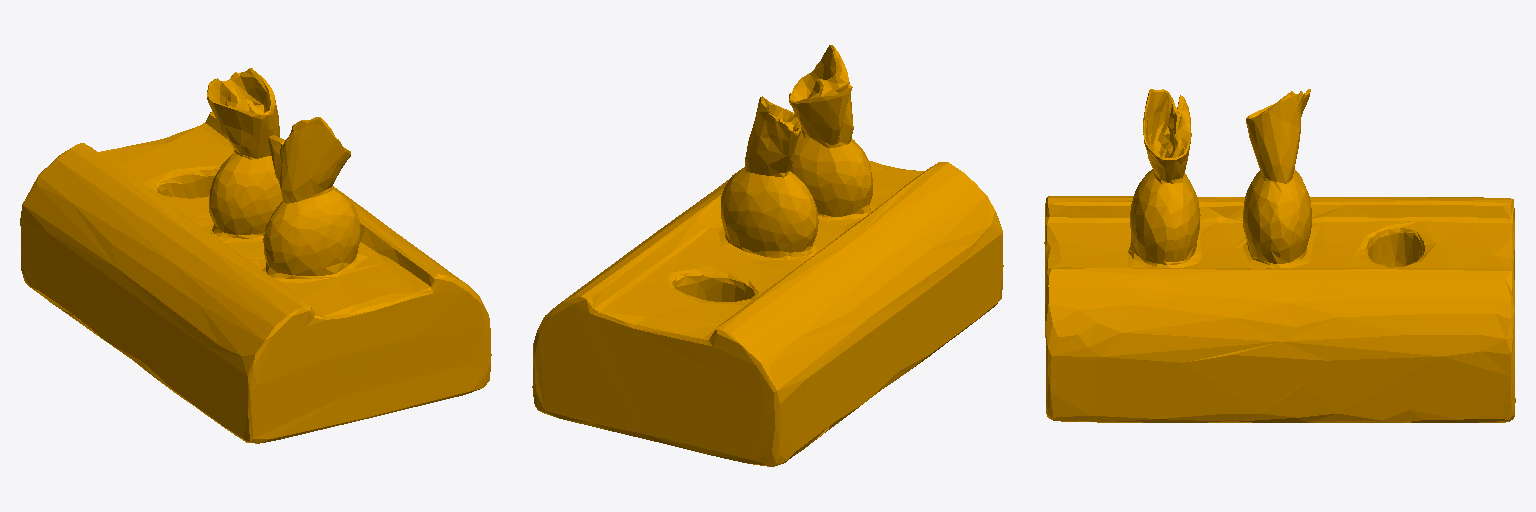
URDF robot description (2c9t1nqg):
<?xml version='1.0'?>

<robot name="2c9t1nqg">
    <static>false</static>
    <link name="link">
        <inertial>
            <mass value="0.03172407637754674"/>
            <inertia ixx="4.803365767594699e-05" ixy="6.588256807751043e-08" ixz="1.2371218185374816e-07"
                     iyy="2.1000659561812558e-05" iyz="9.984850712990166e-07" izz="5.8738506653423716e-05"/>
        </inertial>
        <collision name="collision">
            <geometry>
                <mesh filename="package://miscnet/train/2c9t1nqg/collision_model_vhacd.obj"/>
            </geometry>
        </collision>
        <visual name="visual">
            <geometry>
                <mesh filename="package://miscnet/train/2c9t1nqg/visual_model.obj"/>
            </geometry>
        </visual>
    </link>
</robot>

--- What the picture shows (computed from the rendered views, not written in the file) ---
3 views of the same robot in one strip: view 1: azimuth 30°, elevation 25°; view 2: azimuth 150°, elevation 25°; view 3: azimuth 270°, elevation 25° (orthographic).
Robot: 2c9t1nqg — 1 links, 0 joints (none); root link link; default pose: every joint at zero.
Links seen in each view (by area): view 1: link; view 2: link; view 3: link.
Boxes of the visible links, <box> form: link: <box>20,68,491,443</box>; link: <box>532,45,1003,466</box>; link: <box>1044,89,1515,422</box>.
Size in the robot's own frame: 0.0807 by 0.1291 by 0.0834 metres.
1 mesh visuals loaded from 1 distinct referenced files (1 OBJ).
